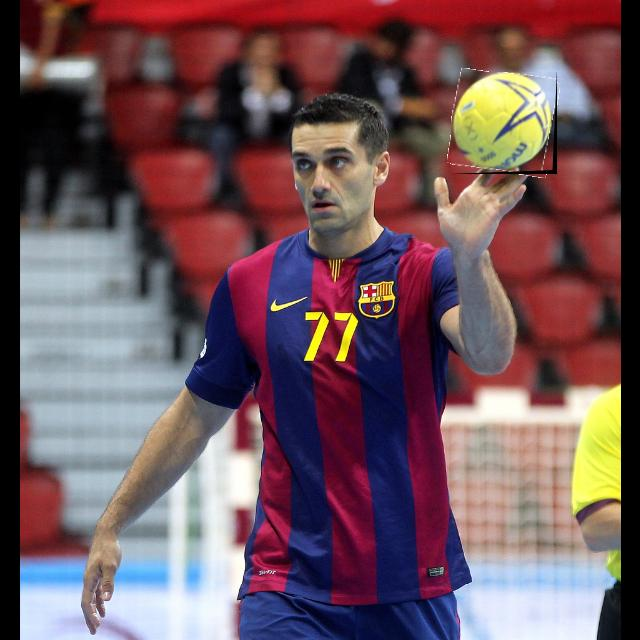Football: (451, 72, 557, 174)
